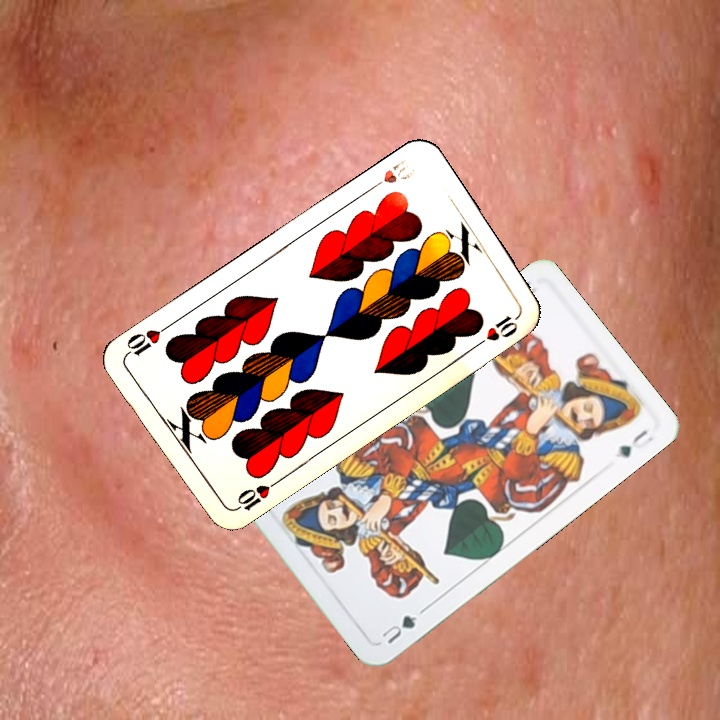GU: (377, 611, 420, 647)
H10: (364, 154, 416, 194), (229, 476, 282, 515)
